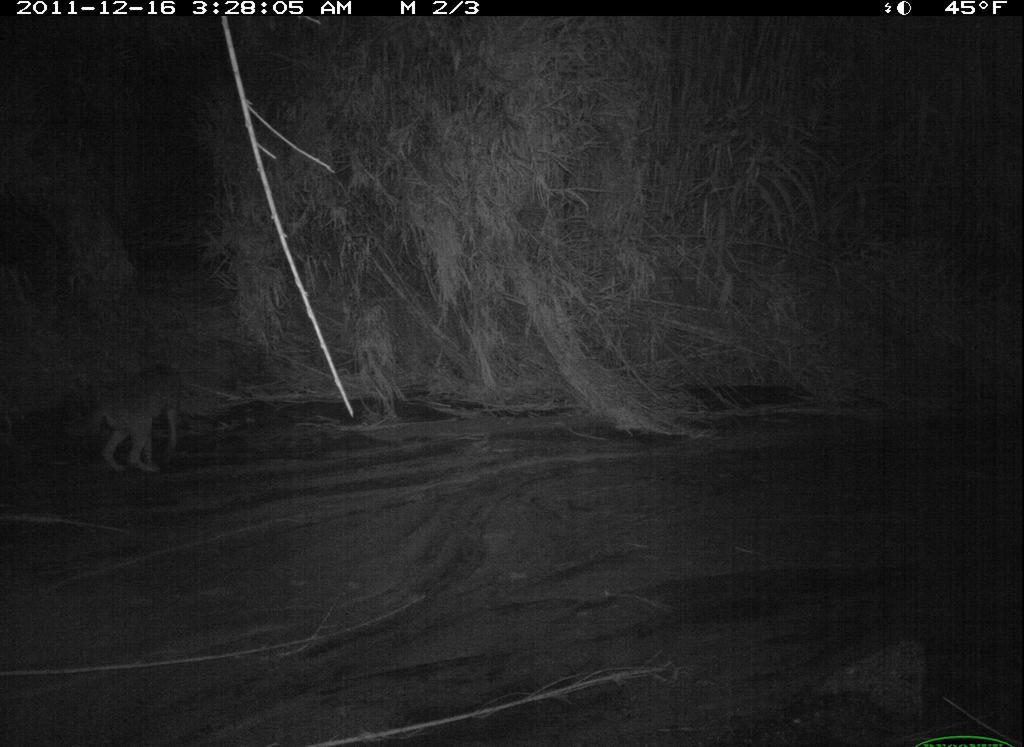coyote: (62, 358, 200, 485)
